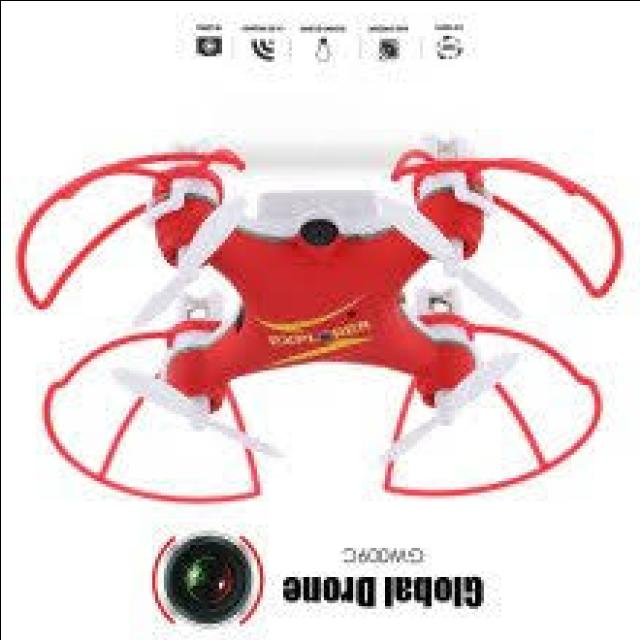drone: (1, 138, 640, 514)
